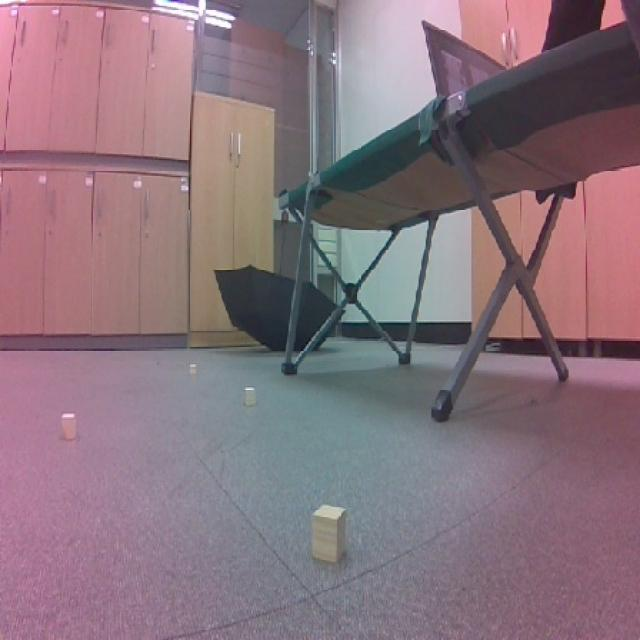obstacle: (294, 496, 352, 572)
